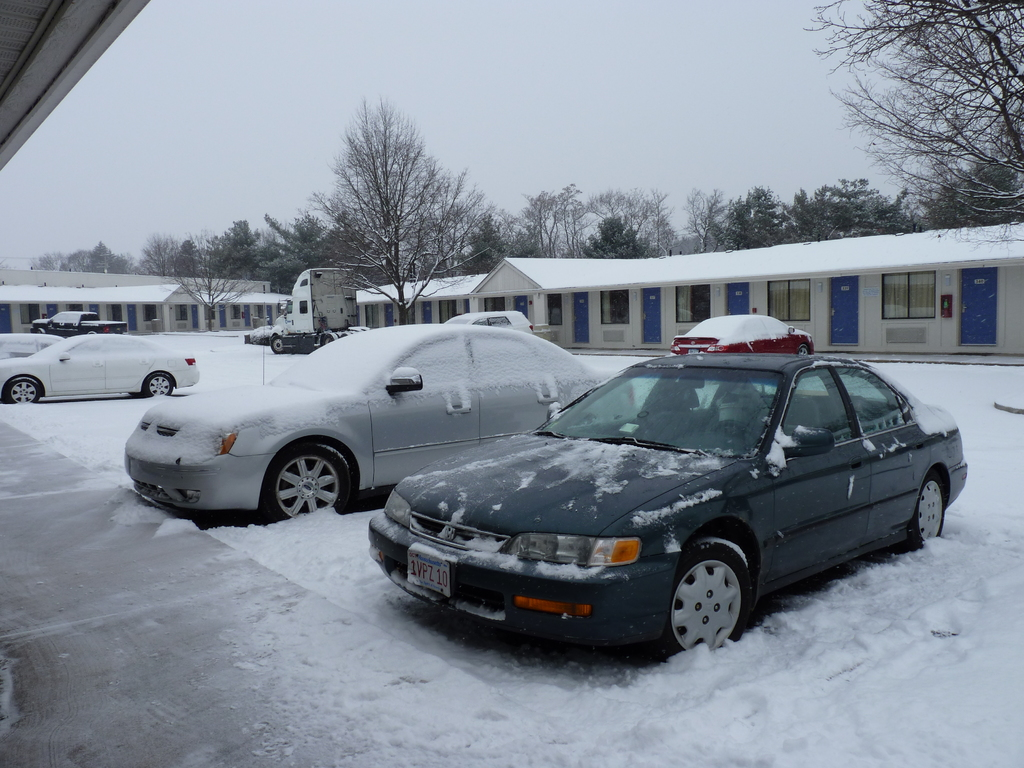Car: (367, 343, 968, 661), (122, 320, 637, 526), (0, 328, 200, 407), (667, 313, 816, 351)
